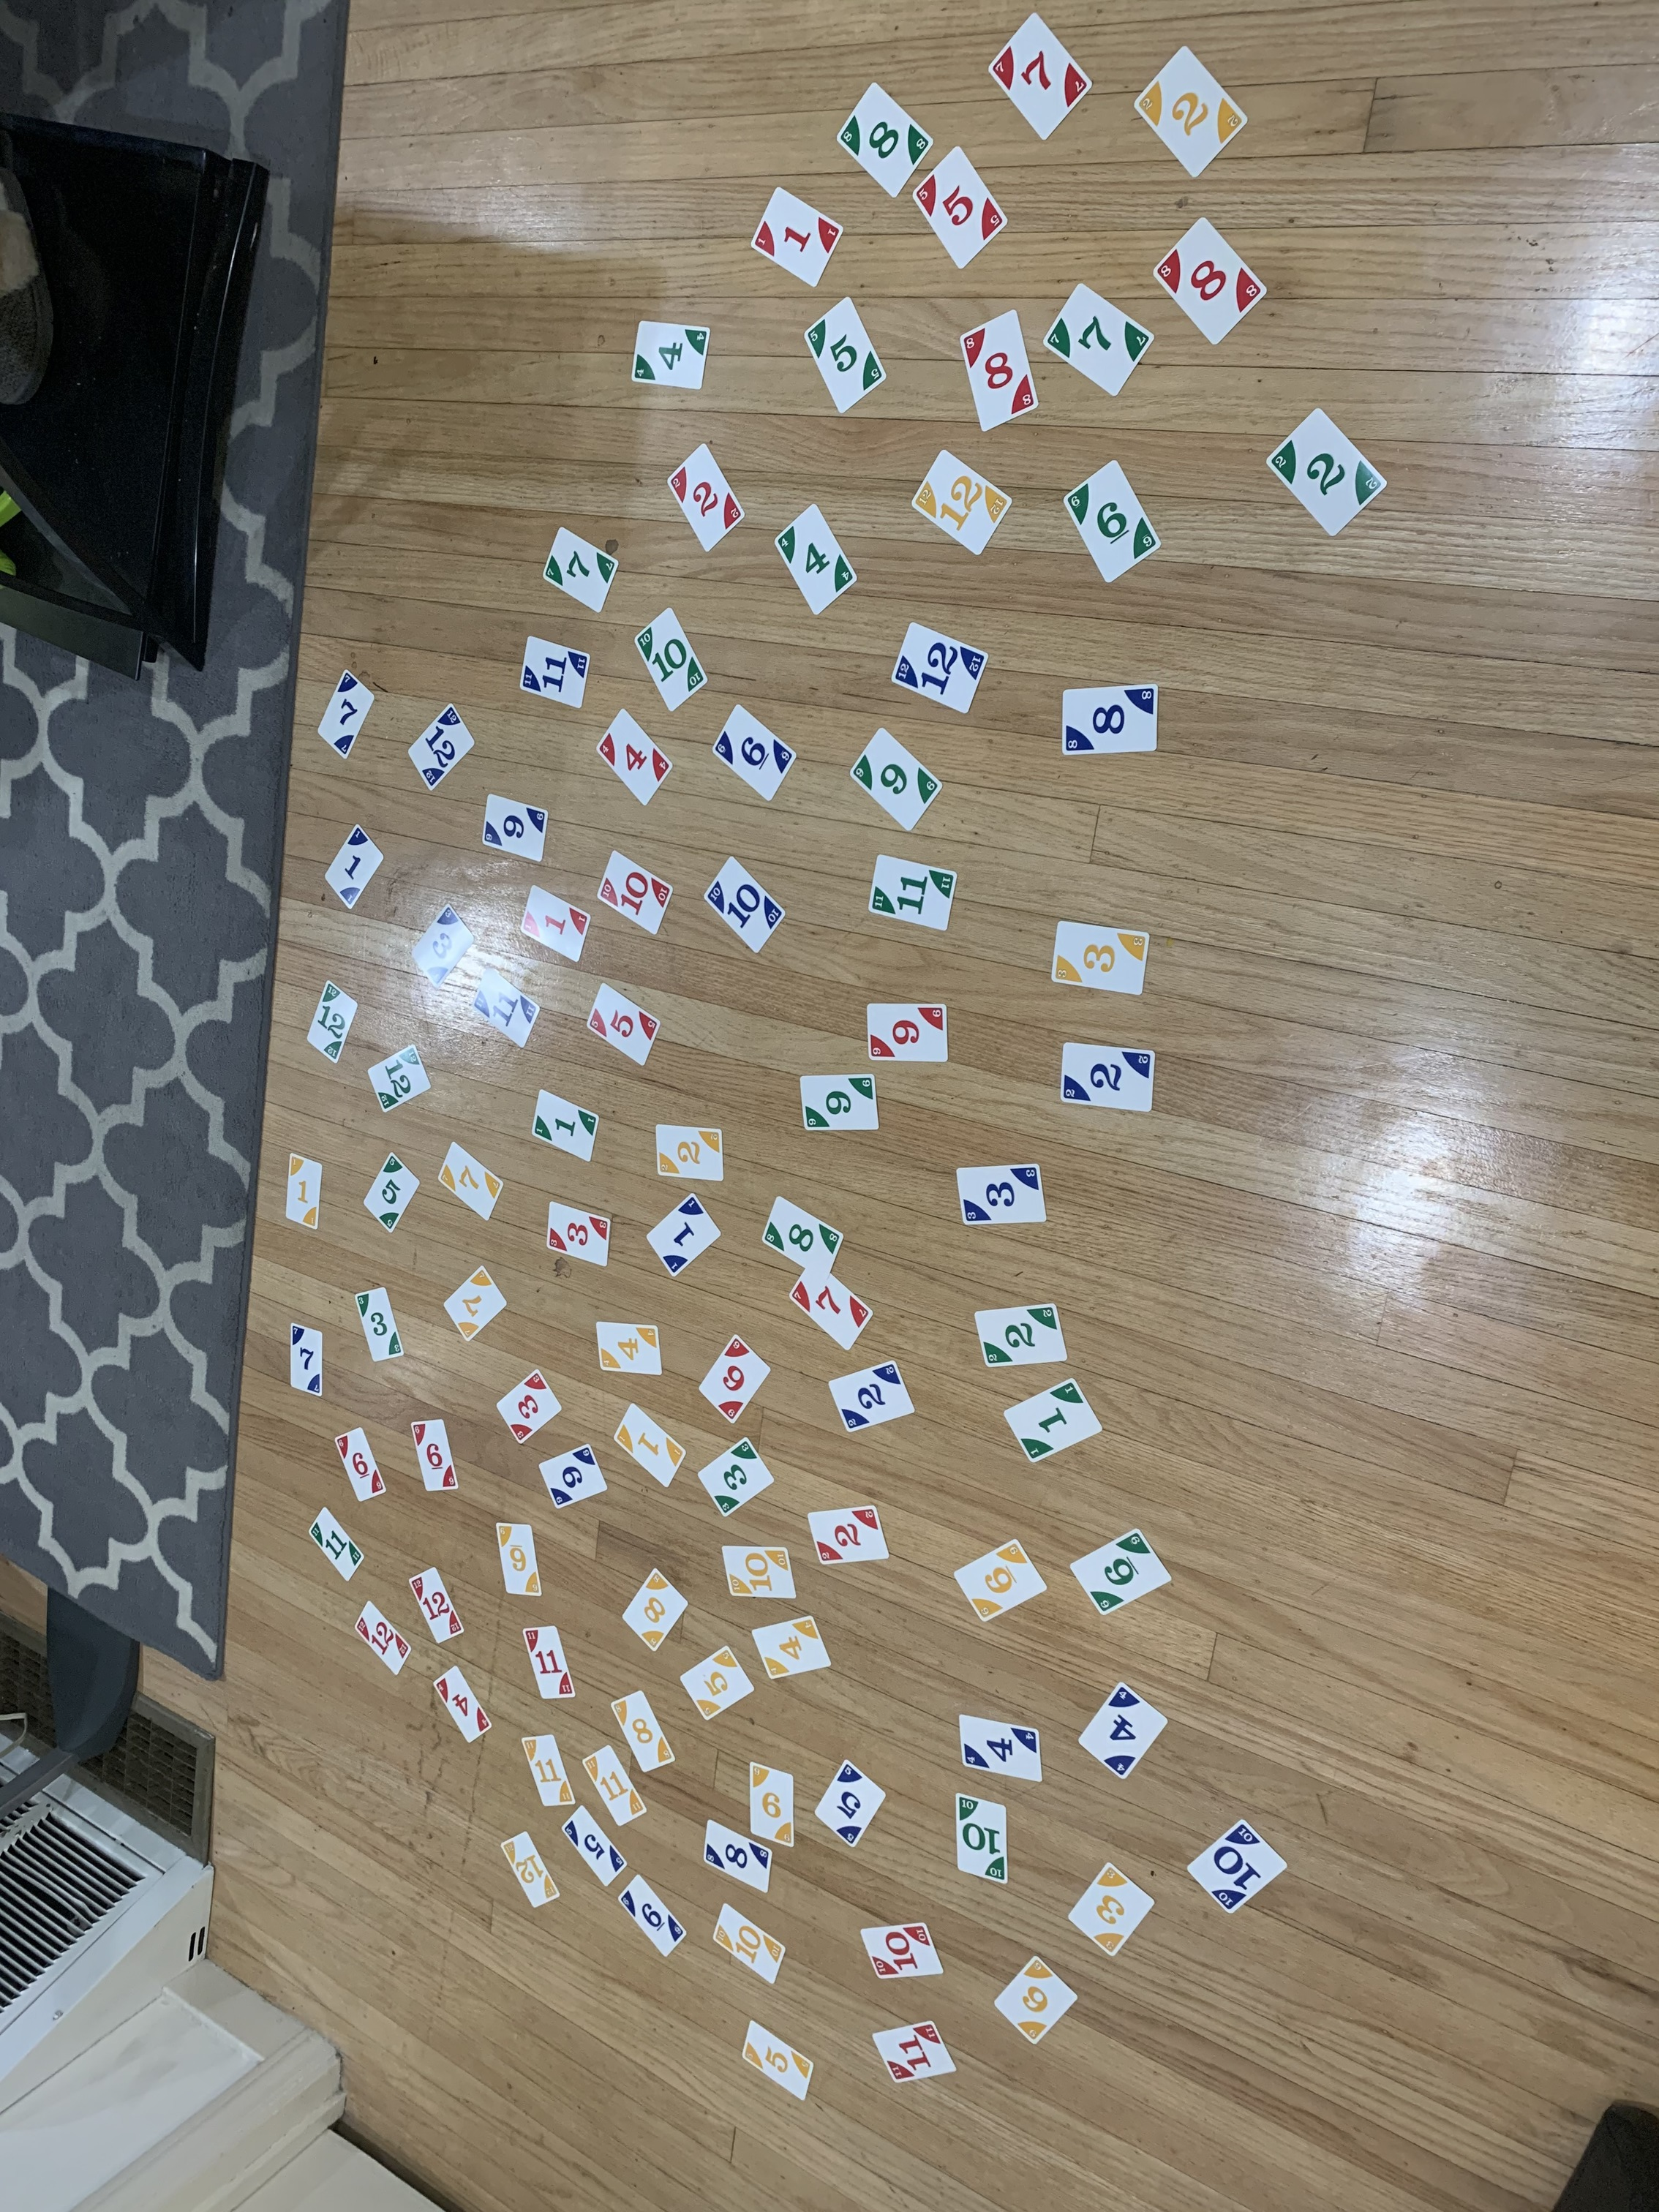eight: (829, 78, 932, 199), (615, 1561, 694, 1660), (599, 1684, 673, 1780)
eleven: (516, 1728, 577, 1813), (518, 1627, 579, 1707)
five: (903, 139, 1007, 273), (793, 286, 889, 423), (362, 1143, 415, 1244)
four: (769, 493, 859, 617)
nine: (697, 1329, 777, 1442)
one: (739, 181, 847, 294), (319, 817, 385, 914), (275, 1151, 324, 1231)
seven: (1039, 279, 1169, 411), (974, 12, 1091, 139), (312, 662, 375, 772), (274, 1320, 328, 1402)
six: (1056, 456, 1169, 589), (734, 1761, 802, 1855), (411, 1413, 458, 1500)
ten: (626, 603, 716, 718), (948, 1775, 1012, 1892)
three: (342, 1278, 411, 1369)
twelve: (901, 444, 1016, 561), (401, 702, 476, 798), (397, 1559, 469, 1653), (300, 975, 361, 1069)
two: (1255, 402, 1392, 543), (1127, 40, 1246, 192), (664, 439, 751, 561)
